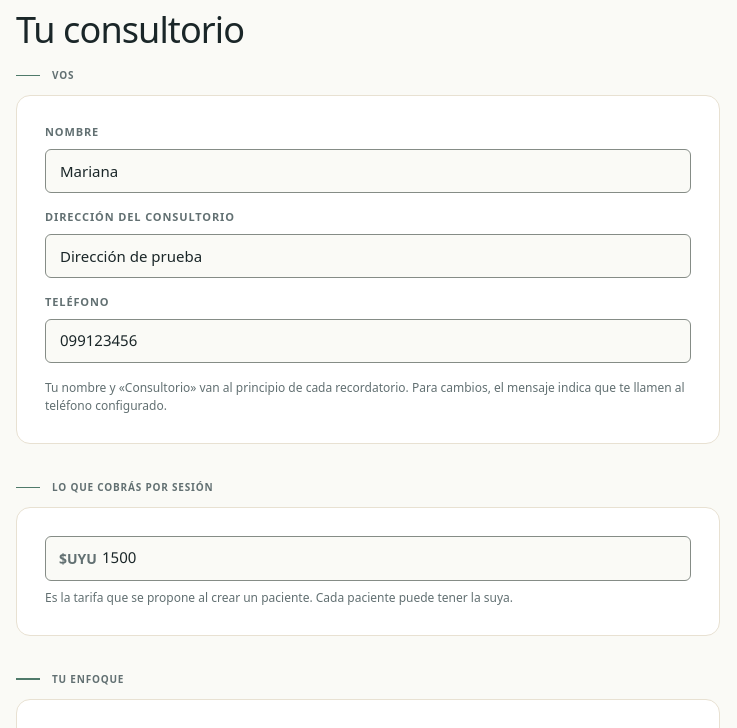
Test: identifica la tarifa inválida  sin enviar cambios
Clear the number field named "Lo que cobrás por sesión" at (368, 558), box [46,537,690,580]
Wait 1600 ms
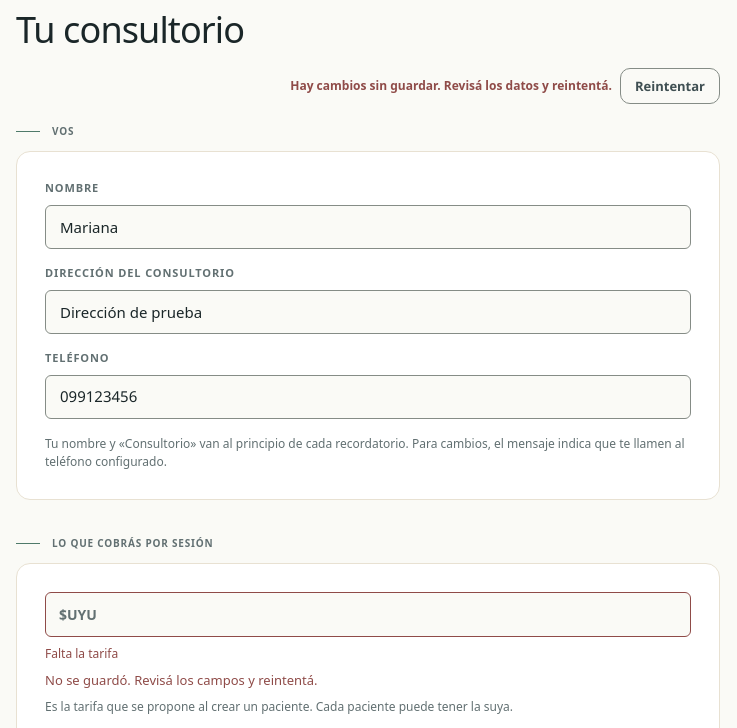
Expected: the text "Hay cambios sin guardar. Revisá los datos y reintentá." is shown, [290,77,612,95]
